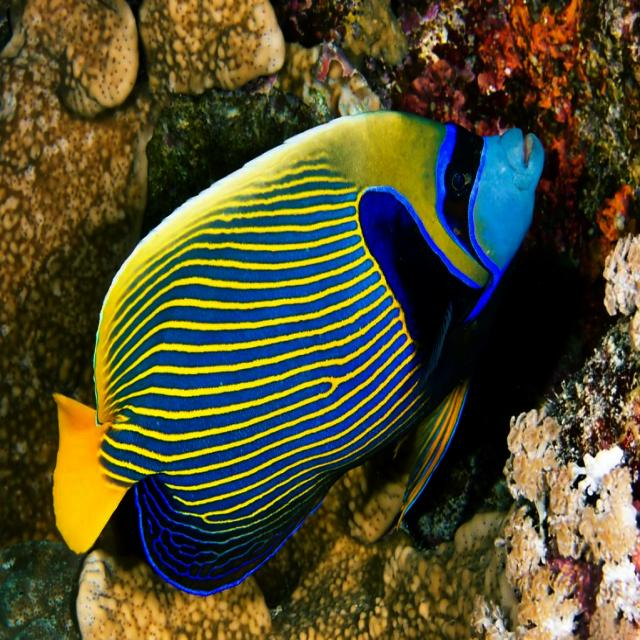AngelFish: (53, 112, 544, 596)
